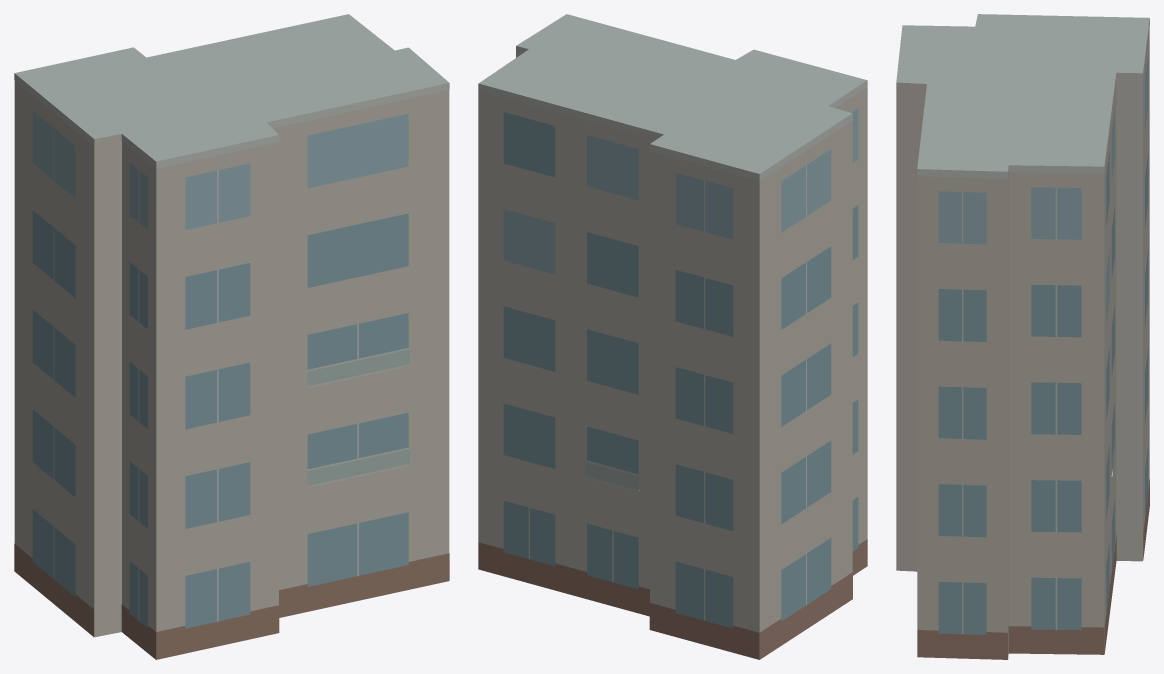
Rendered from survey-upis-32965549.glb.
3 views of the same model, side by side, from view 1: azimuth 30°, elevation 25°; view 2: azimuth 150°, elevation 25°; view 3: azimuth 270°, elevation 25° (orthographic). The views are drawn at different scales.
Parts seen in each view (by area): view 1: survey-upis-32965549.tmp; view 2: survey-upis-32965549.tmp; view 3: survey-upis-32965549.tmp.
Boxes of the visible parts, bbox=[...] form: survey-upis-32965549.tmp: bbox=[14, 14, 449, 659]; survey-upis-32965549.tmp: bbox=[478, 14, 867, 659]; survey-upis-32965549.tmp: bbox=[896, 14, 1149, 659].
Size of the model in its own units: 11.65 by 16.8 by 7.92.
